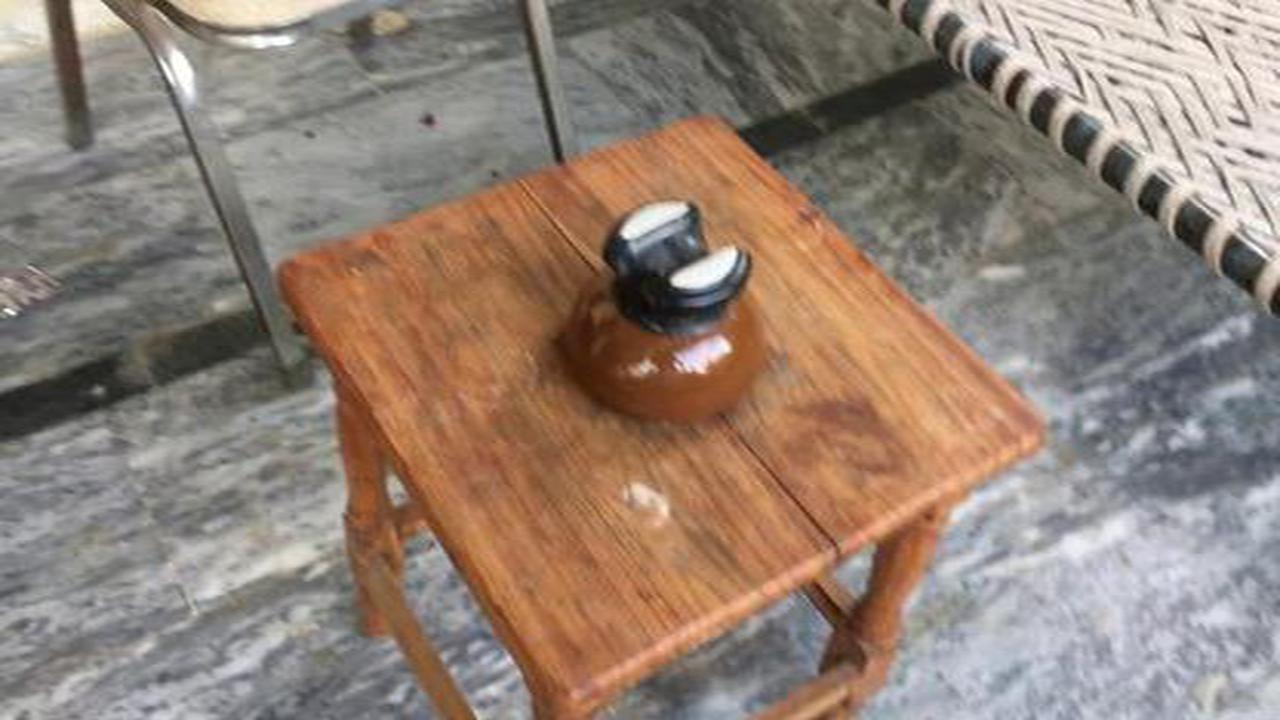insulator_pin: (533, 185, 791, 438)
